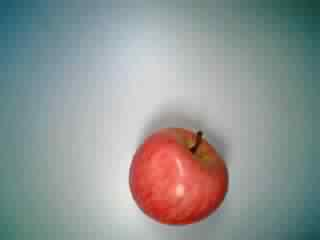apple: (126, 124, 230, 228)
